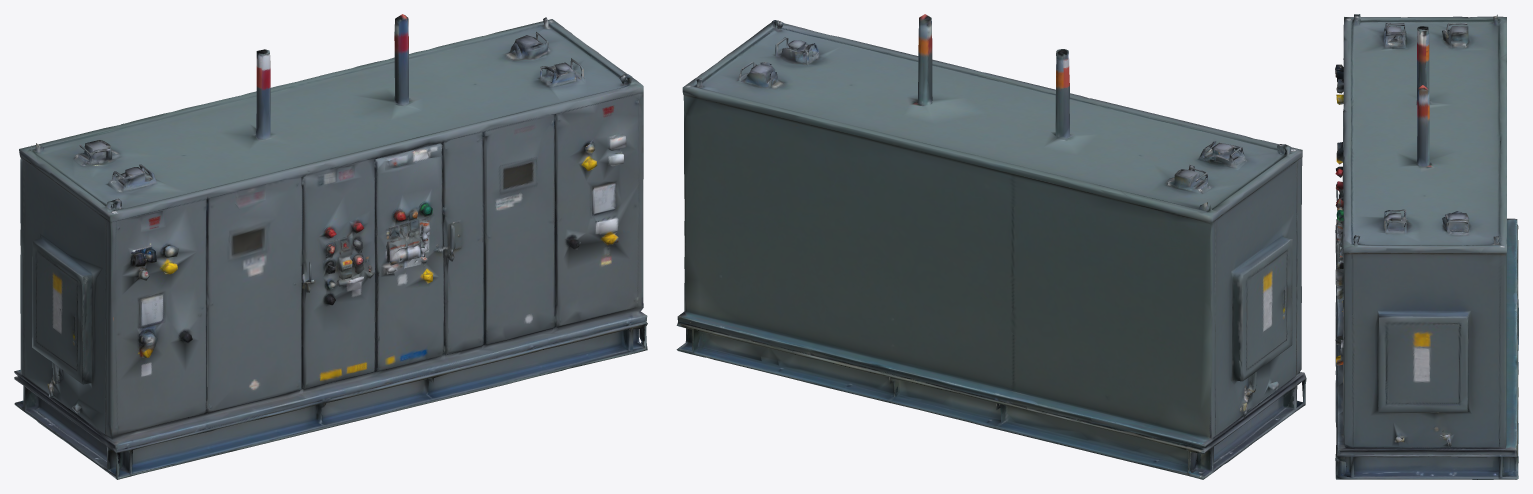
File: pdu.glb
3 renders of one model, left to right at view 1: azimuth 30°, elevation 25°; view 2: azimuth 150°, elevation 25°; view 3: azimuth 270°, elevation 25°, orthographic. The views are drawn at different scales.
Size of the model in its own units: 2 by 1.21 by 0.6497.
Materials: 1 (1 with a texture image).
